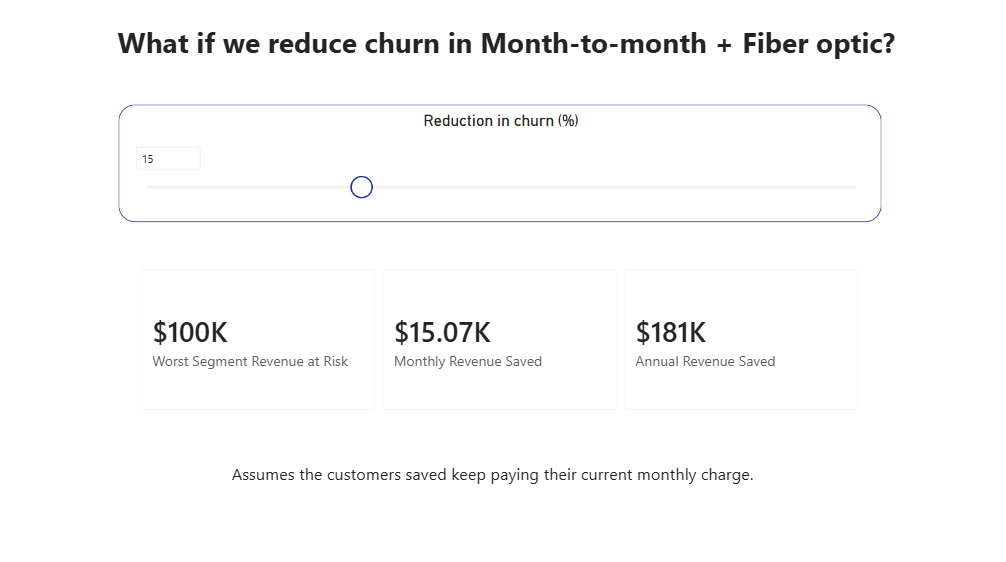

The page's visual inventory and layout, read from the dashboard file:
{"tool":"powerbi","page":{"name":"What-if Scenario","canvas":[1280,720],"ordinal":2},"visuals":[{"type":"slicer","title":"Reduction in churn (%)","fields":{"Values":["Churn Reduction.Churn Reduction"]},"box":[203,157.7,871.9,134.5],"z":0},{"type":"cardVisual","fields":{"Data":["Telco-Customer-Churn.Worst Segment Revenue at Risk","Telco-Customer-Churn.Monthly Revenue Saved","Telco-Customer-Churn.Annual Revenue Saved"]},"box":[211.6,328.9,856,195.7],"z":1},{"type":"textbox","box":[185.6,59.2,920.8,68.5],"z":2},{"type":"textbox","box":[326.5,561.3,626.1,51.4],"z":3}]}

Visuals, with their boxes in screenshot pixels (x1, y1, x2, y2), scaled from the page's 1280x720 canvas onto the 1006x562 screenshot:
"Reduction in churn (%)" slicer: crop(160, 123, 845, 228)
cardVisual - Telco-Customer-Churn.Worst Segment Revenue at Risk x Telco-Customer-Churn.Monthly Revenue Saved: crop(166, 257, 839, 409)
textbox: crop(146, 46, 870, 100)
textbox: crop(257, 438, 749, 478)
